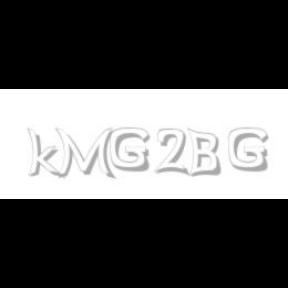2: (154, 128, 188, 176)
B: (187, 128, 221, 178)
G: (110, 128, 150, 172), (228, 128, 268, 172)
M: (55, 128, 114, 180)
k: (26, 128, 64, 180)
